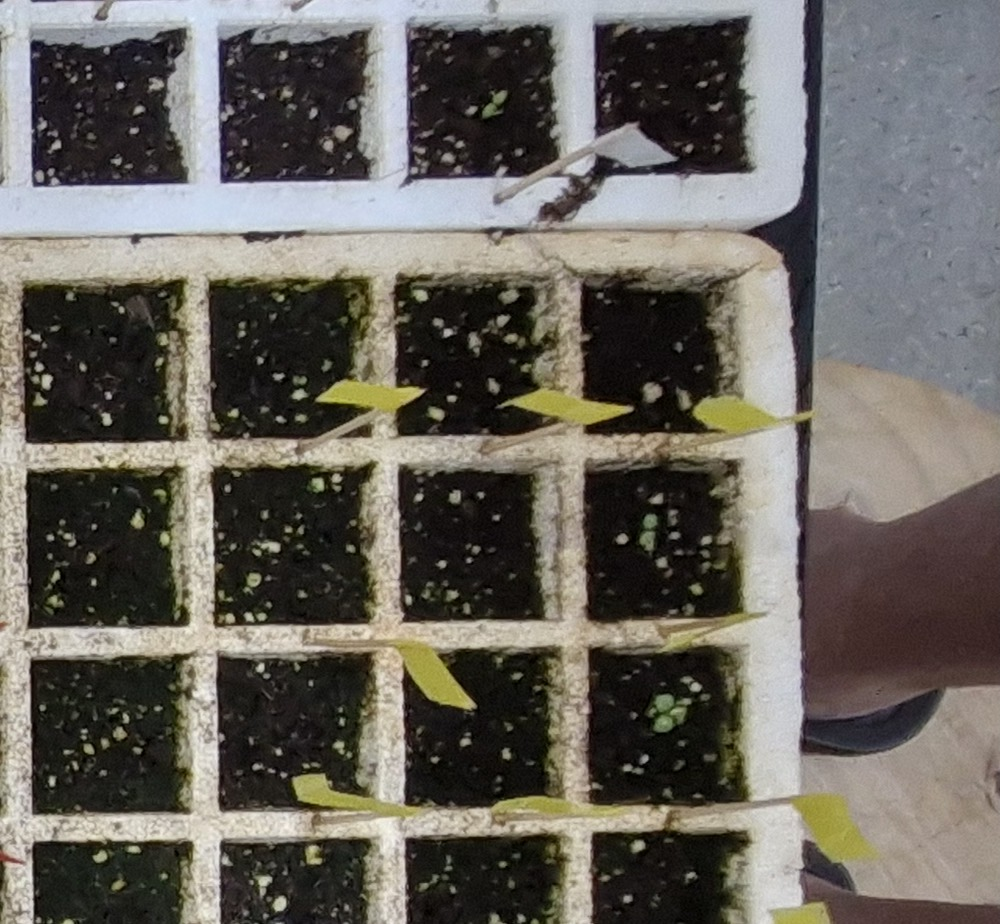Folha: (655, 694, 675, 712), (654, 715, 673, 732), (640, 531, 655, 544), (644, 514, 657, 529)
Germinacao: (653, 694, 675, 732), (640, 514, 658, 544)
